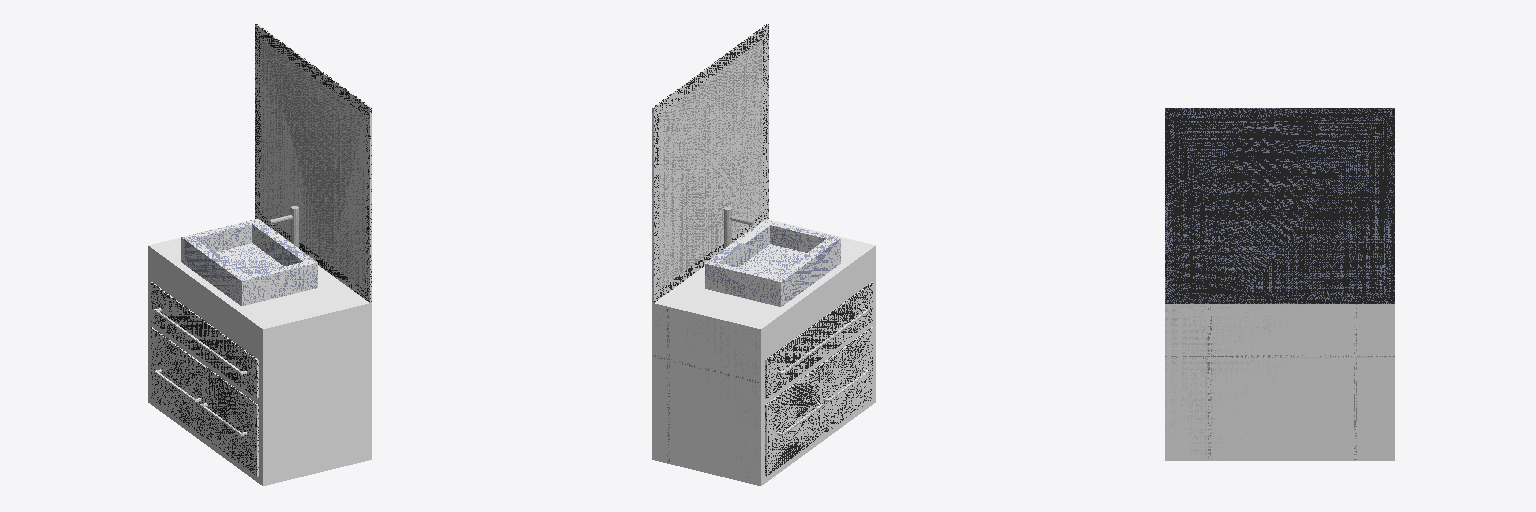
The picture shows the model from 3 angles: view 1: azimuth 30°, elevation 25°; view 2: azimuth 150°, elevation 25°; view 3: azimuth 270°, elevation 25°; orthographic projection.
Parts seen in each view (by area): view 1: Mesh16 vanity1 Model, Mesh15 Modern_rectangular_sink1 vanity1 Model; view 2: Mesh16 vanity1 Model, Mesh15 Modern_rectangular_sink1 vanity1 Model; view 3: Mesh16 vanity1 Model.
Part boxes in pixels (bbox=[...]): Mesh16 vanity1 Model: bbox=[148, 24, 371, 485]; Mesh15 Modern_rectangular_sink1 vanity1 Model: bbox=[181, 219, 317, 305]; Mesh16 vanity1 Model: bbox=[652, 24, 875, 485]; Mesh15 Modern_rectangular_sink1 vanity1 Model: bbox=[705, 220, 840, 306]; Mesh16 vanity1 Model: bbox=[1165, 108, 1394, 460].
Size of the model in its own units: 0.74 by 2.13 by 1.26.
8 materials, 1 textured.